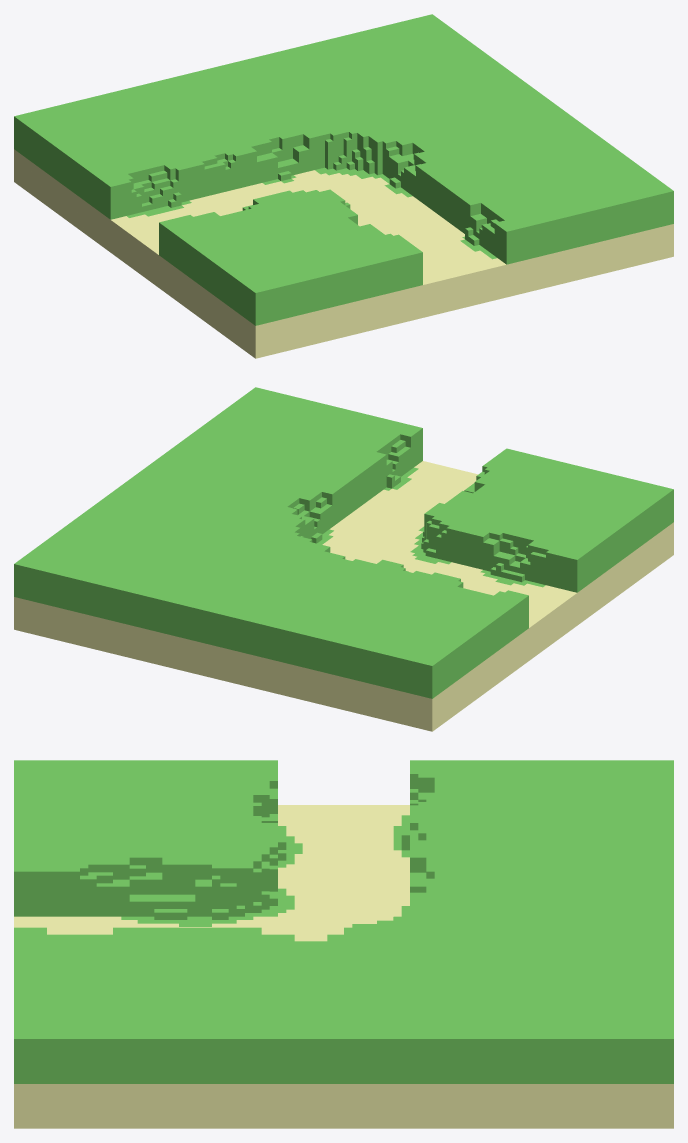
Rendered from Left Turning Path Plains Tile 1.obj.
3 renders of one model, top to bottom at view 1: azimuth 30°, elevation 25°; view 2: azimuth 150°, elevation 25°; view 3: azimuth 270°, elevation 25°, orthographic. The views are drawn at different scales.
Size of the model in its own units: 8 by 1.2 by 8.
Materials: 1 (1 with a texture image).
